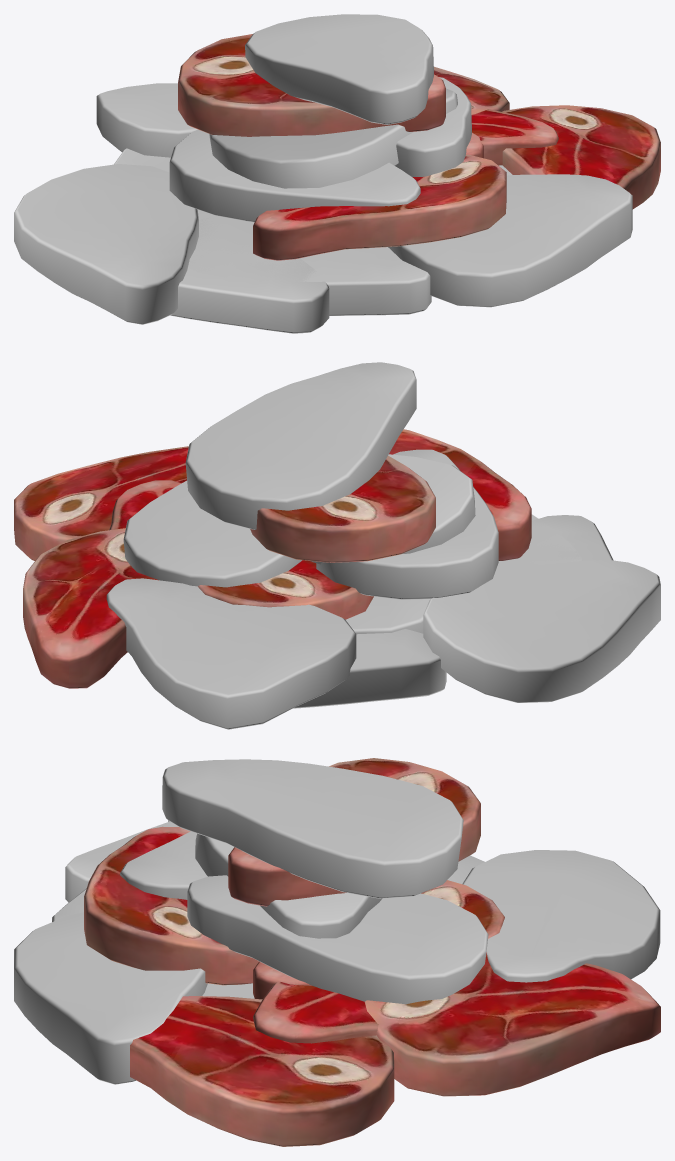
The picture shows the model from 3 angles, top to bottom: view 1: azimuth 30°, elevation 25°; view 2: azimuth 150°, elevation 25°; view 3: azimuth 270°, elevation 25°; orthographic projection. The views are drawn at different scales.
Visible parts, largest first — view 1: SM_Dec_Pile_of_meats_LOD0; view 2: SM_Dec_Pile_of_meats_LOD0; view 3: SM_Dec_Pile_of_meats_LOD0.
Part boxes in pixels (x1,y1,x2,y2): SM_Dec_Pile_of_meats_LOD0: [14, 14, 660, 333]; SM_Dec_Pile_of_meats_LOD0: [14, 362, 660, 729]; SM_Dec_Pile_of_meats_LOD0: [14, 758, 660, 1146].
Bounding box in the file's own units: 0.7785 × 0.2421 × 0.6629.
